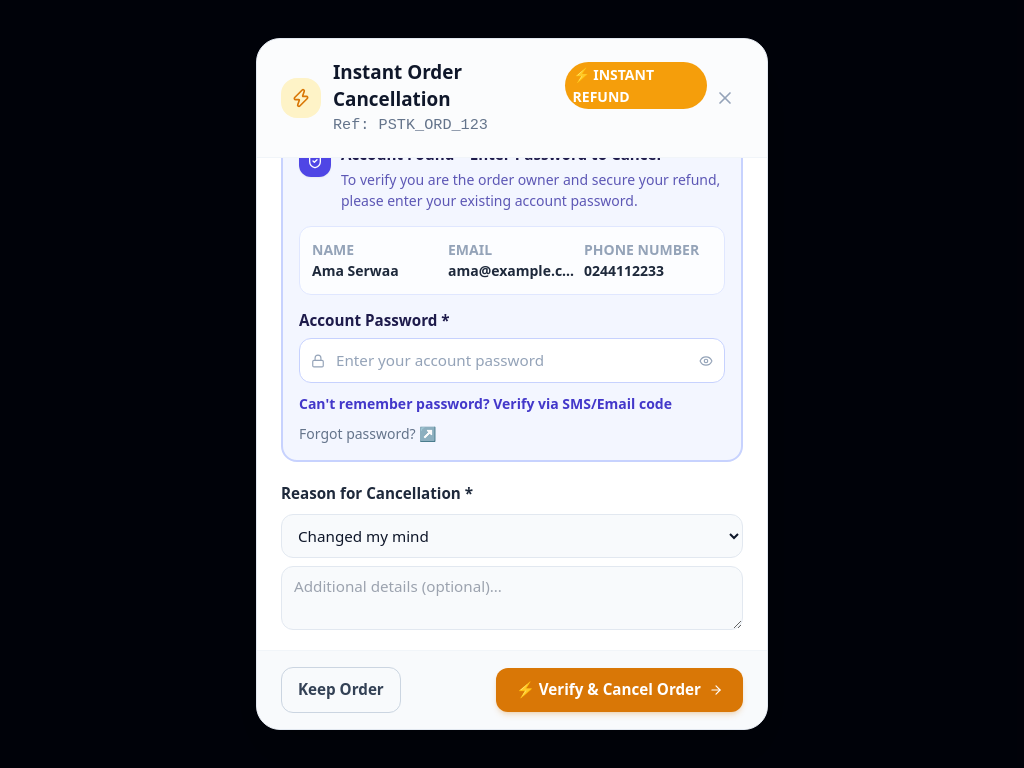
Scenario: BuyerCancelModal Component › switches to OTP mode and sends verification code when clicking forgot password alternative
(page scrolled)
Click the button "Can't remember password? Verify via SMS/Email code" at x=486, y=404, box [299,393,672,415]
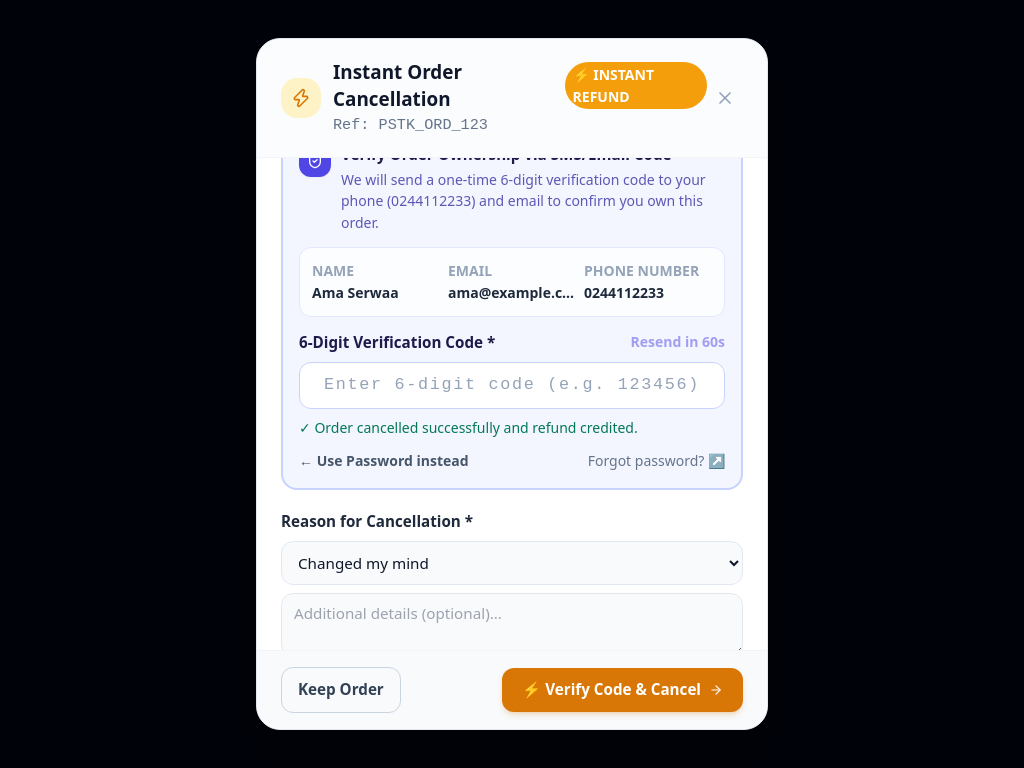
Result: the field with placeholder "Enter 6-digit code (e.g. 123456)" is shown at [299,362,725,408]
Result: the text "6-Digit Verification Code *" is shown at [299,330,495,354]
Result: the button "⚡ Verify Code & Cancel" is shown at [502,668,743,712]
